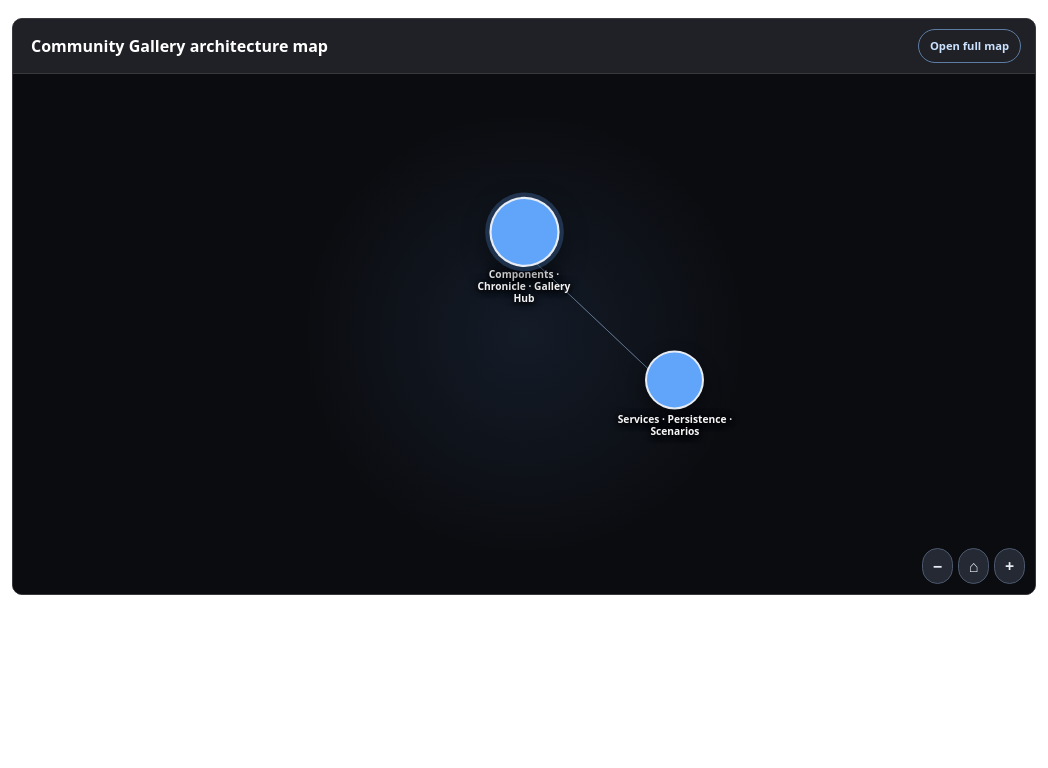
Test: RepositoryGraphView › renders a clean interactive capability preview without the global evidence shell
Later steps or results of the test are not shown.
expect the heading "Community Gallery architecture map" is shown: met, box [31,34,328,58]
expect the button with aria-label "Components · Chronicle · Gallery Hub, 3 capability items" is shown: met, box [466,199,582,304]
Click the button "Services · Persistence · Scenarios". click: (675, 394)
box: [617,350,733,438]
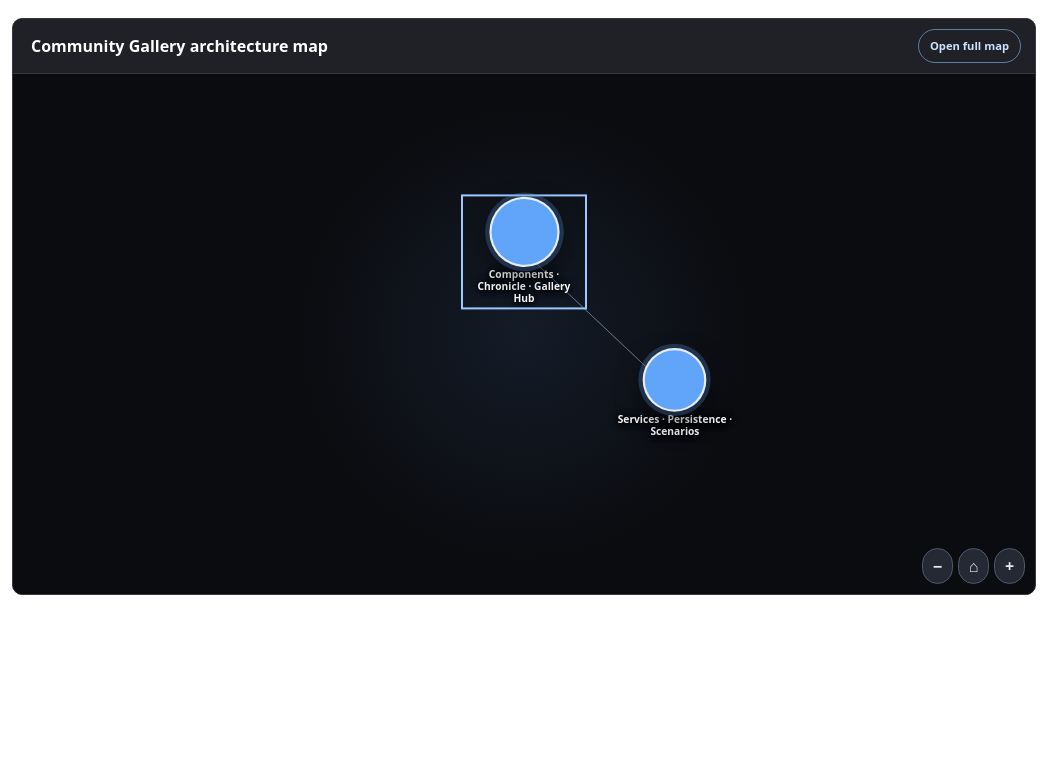
expect the button "Services · Persistence · Scenarios" is pressed: met, box [617,350,733,438]
